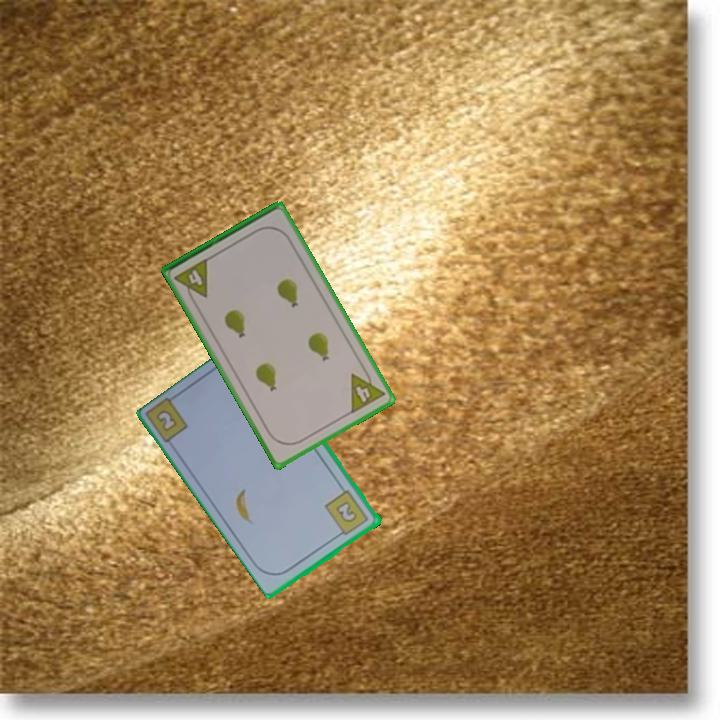2b: (322, 487, 372, 540), (155, 408, 178, 432)
4p: (347, 364, 388, 416), (171, 255, 211, 306)
